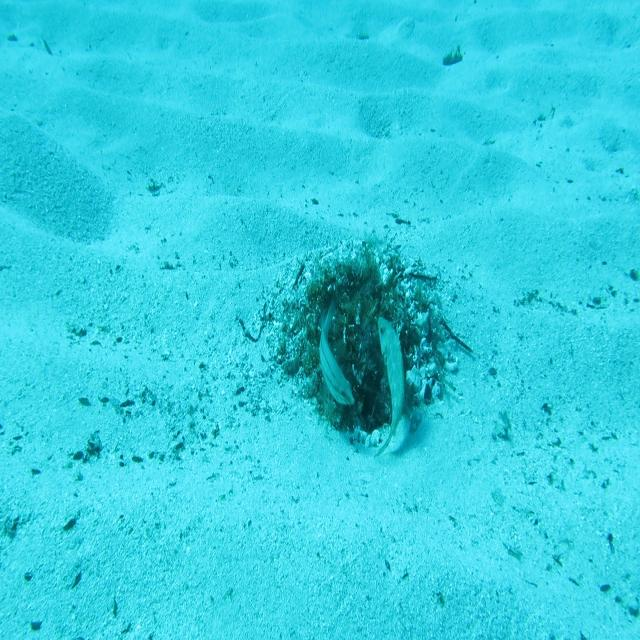DAN_CIRC: (364, 312, 408, 460)
core_nest: (338, 271, 381, 320)
female: (318, 288, 357, 409)
nest: (256, 229, 466, 465)
vegetation: (441, 47, 464, 68)
